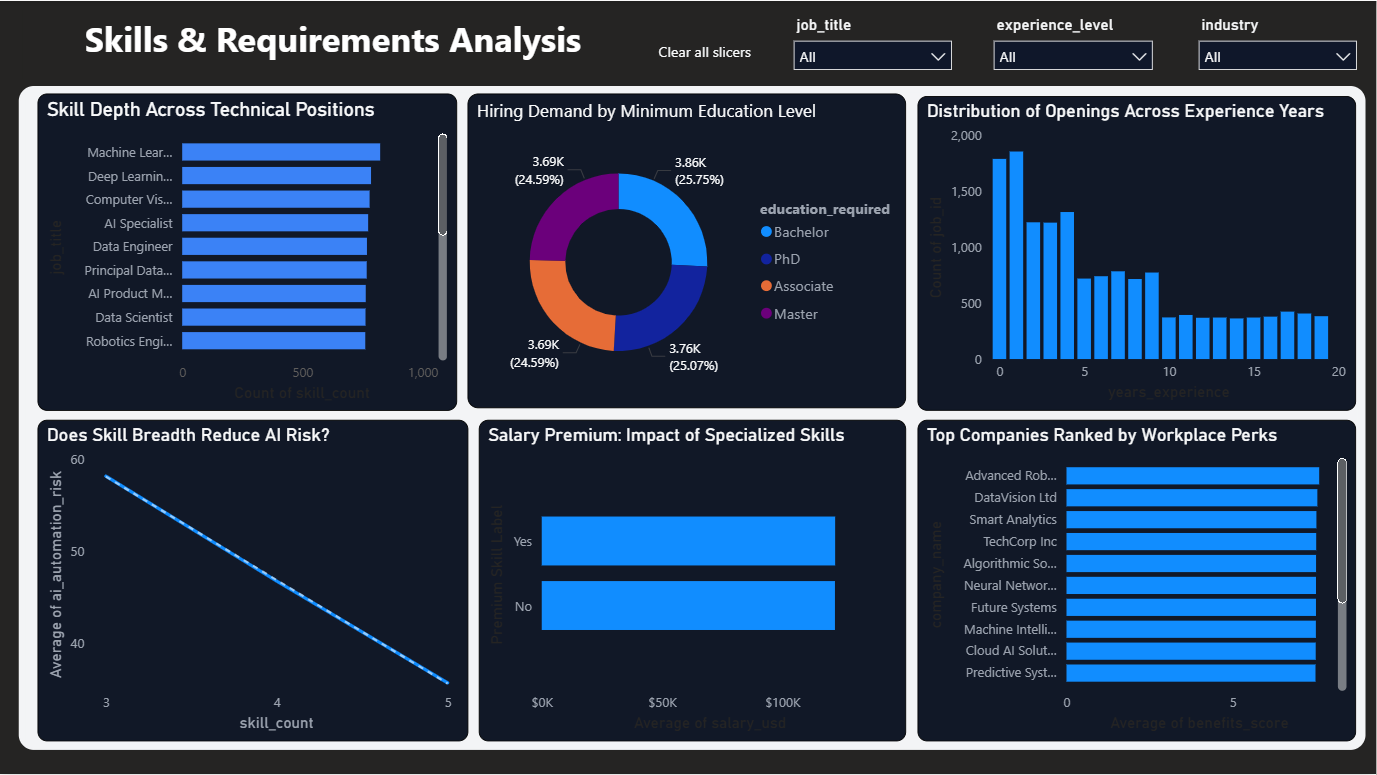

What the dashboard file says about the page in this screenshot:
{"tool":"powerbi","page":{"name":"Skills & Requirements Analysis","canvas":[1280,720],"ordinal":2},"visuals":[{"type":"shape","box":[18,79.6,1253,617.5],"z":0},{"type":"barChart","title":"Skill Depth Across Technical Positions","fields":{"Category":["ai_jobs_predictions_final.job_title"],"Y":["CountNonNull(ai_jobs_predictions_final.skill_count)"]},"box":[34.7,86,390.3,295.3],"z":1000},{"type":"lineChart","title":"Does Skill Breadth Reduce AI Risk?","fields":{"Y":["Avg(ai_jobs_predictions_final.ai_automation_risk)"],"Category":["ai_jobs_predictions_final.skill_count"]},"box":[34.7,389.5,400.7,299],"z":2000},{"type":"clusteredColumnChart","title":"Distribution of Openings Across Experience Years","fields":{"Y":["CountNonNull(ai_jobs_predictions_final.job_id)"],"Category":["ai_jobs_predictions_final.years_experience"]},"box":[853.8,88.6,408.3,292.7],"z":3000},{"type":"donutChart","title":"Hiring Demand by Minimum Education Level","fields":{"Category":["ai_jobs_predictions_final.education_required"],"Y":["CountNonNull(ai_jobs_predictions_final.job_id)"]},"box":[435.2,86,408.3,292.7],"z":4000},{"type":"clusteredBarChart","title":"Salary Premium: Impact of Specialized Skills","fields":{"Y":["Avg(ai_jobs_predictions_final.salary_usd)"],"Category":["ai_jobs_predictions_final.Premium Skill Label"]},"box":[445.5,389,398,299.1],"z":5000},{"type":"barChart","title":"Top Companies Ranked by Workplace Perks","fields":{"Y":["Avg(ai_jobs_predictions_final.benefits_score)"],"Category":["ai_jobs_predictions_final.company_name"]},"box":[853.8,389,408.3,299.1],"z":6000},{"type":"textbox","box":[21.1,8.7,808.8,64.5],"z":7000},{"type":"slicer","fields":{"Values":["ai_jobs_predictions_final.job_title"]},"box":[728.2,8.7,167.5,76.9],"z":8000},{"type":"slicer","fields":{"Values":["ai_jobs_predictions_final.industry"]},"box":[1104.1,8.7,167.5,76.9],"z":9000},{"type":"slicer","fields":{"Values":["ai_jobs_predictions_final.experience_level"]},"box":[914.3,8.7,168.7,76.9],"z":10000},{"type":"actionButton","box":[584.2,32.1,143.8,29.5],"z":11000}]}

Visuals, with their boxes in screenshot pixels (x1, y1, x2, y2), scaled from the page's 1280x720 canvas onto the 1377x775 screenshot:
shape: x1=19 y1=86 x2=1367 y2=750
"Skill Depth Across Technical Positions" barChart: x1=37 y1=93 x2=457 y2=410
"Does Skill Breadth Reduce AI Risk?" lineChart: x1=37 y1=419 x2=468 y2=741
"Distribution of Openings Across Experience Years" clusteredColumnChart: x1=919 y1=95 x2=1358 y2=410
"Hiring Demand by Minimum Education Level" donutChart: x1=468 y1=93 x2=907 y2=408
"Salary Premium: Impact of Specialized Skills" clusteredBarChart: x1=479 y1=419 x2=907 y2=741
"Top Companies Ranked by Workplace Perks" barChart: x1=919 y1=419 x2=1358 y2=741
textbox: x1=23 y1=9 x2=893 y2=79
slicer - ai_jobs_predictions_final.job_title: x1=783 y1=9 x2=964 y2=92
slicer - ai_jobs_predictions_final.industry: x1=1188 y1=9 x2=1368 y2=92
slicer - ai_jobs_predictions_final.experience_level: x1=984 y1=9 x2=1165 y2=92
actionButton: x1=628 y1=35 x2=783 y2=66
